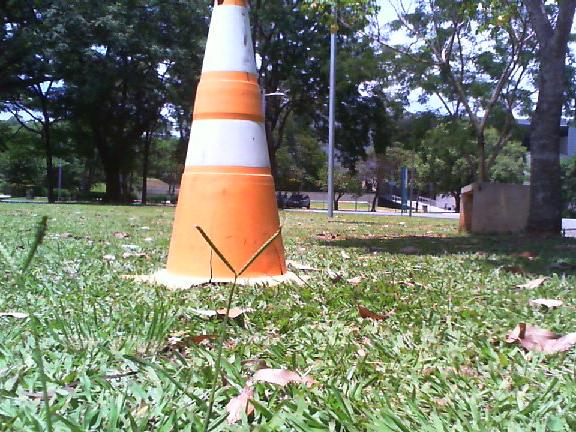0 cone: (122, 0, 318, 290)
